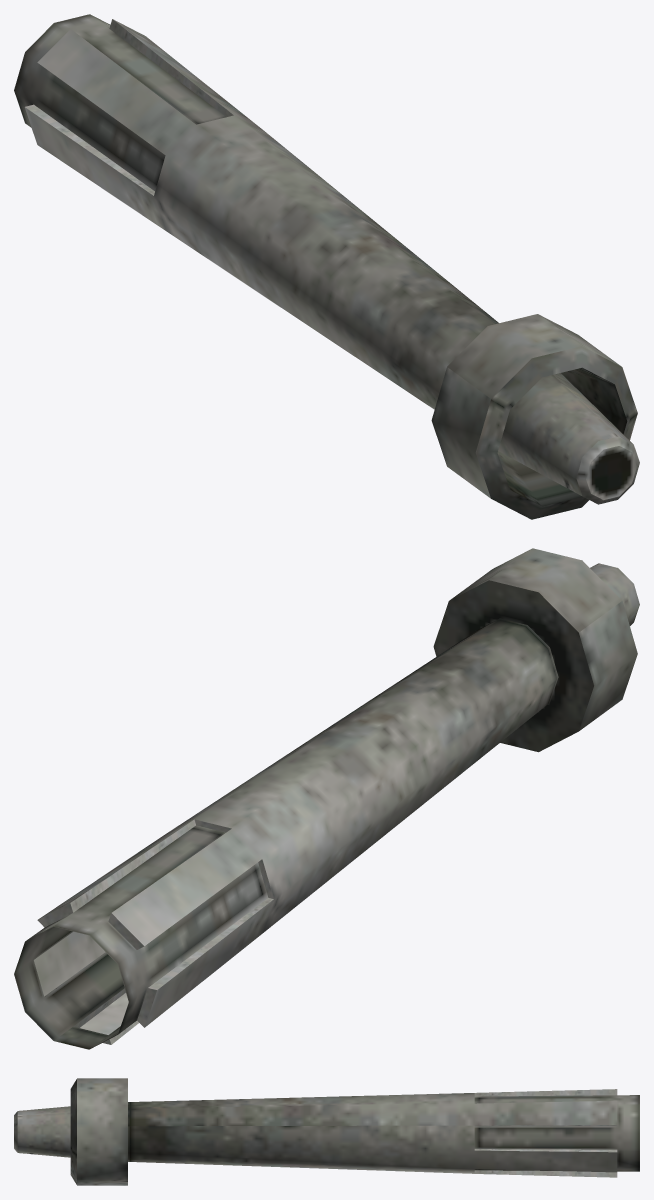
Rendered from ykl37r_turret_barrel_s02_l0.fbx.
The picture shows the model from 3 angles, top to bottom: view 1: azimuth 30°, elevation 25°; view 2: azimuth 150°, elevation 25°; view 3: azimuth 270°, elevation 25°; orthographic projection. The views are drawn at different scales.
Parts seen in each view (by area): view 1: mesh_node; view 2: mesh_node; view 3: mesh_node.
Boxes of the visible parts, x1,y1,x2,y2 form: mesh_node: [14, 14, 639, 519]; mesh_node: [14, 548, 639, 1049]; mesh_node: [14, 1078, 639, 1185].
Size of the model in its own units: 0.24 by 0.2283 by 1.39.
Materials: 1 (1 with a texture image).
